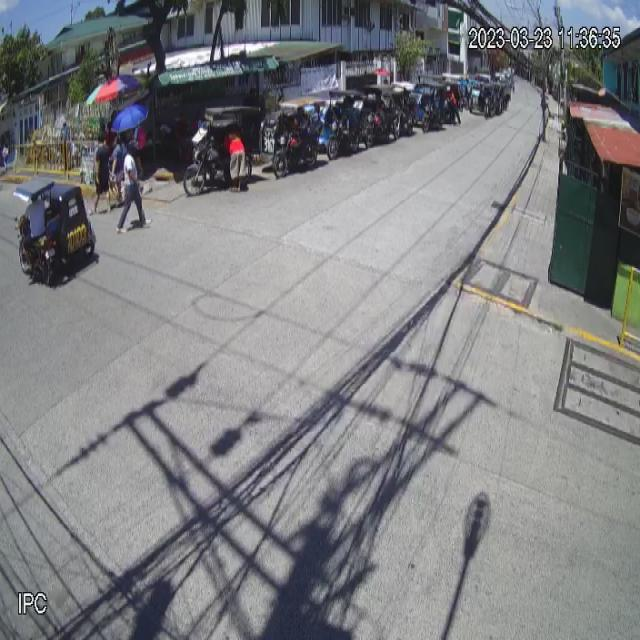Tricycle: (12, 176, 96, 286)
